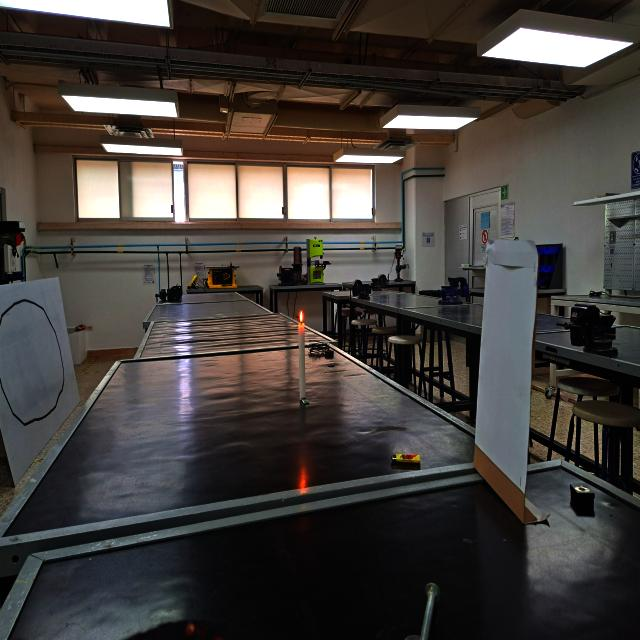candle: (291, 301, 314, 404)
wall: (472, 226, 552, 534)
